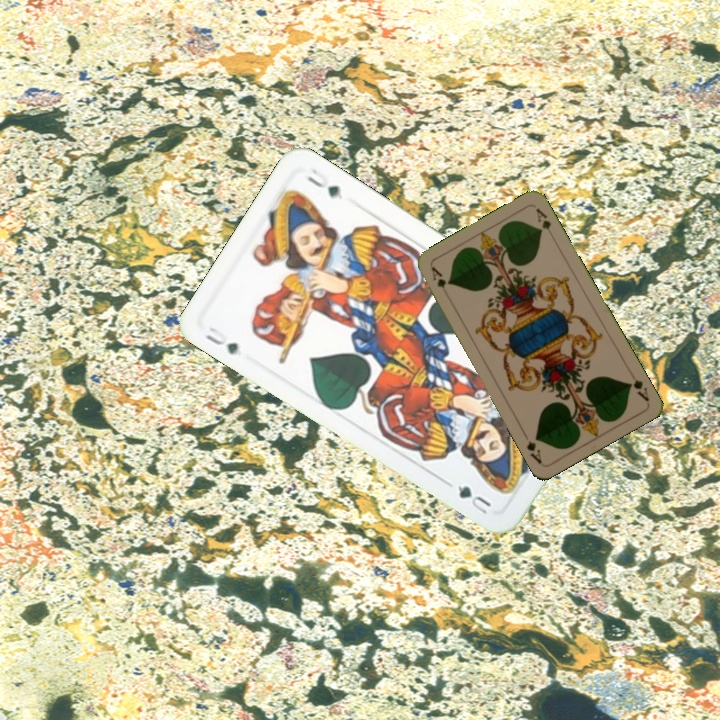GA: (427, 263, 451, 300), (624, 375, 652, 404)
GU: (201, 323, 241, 358)
